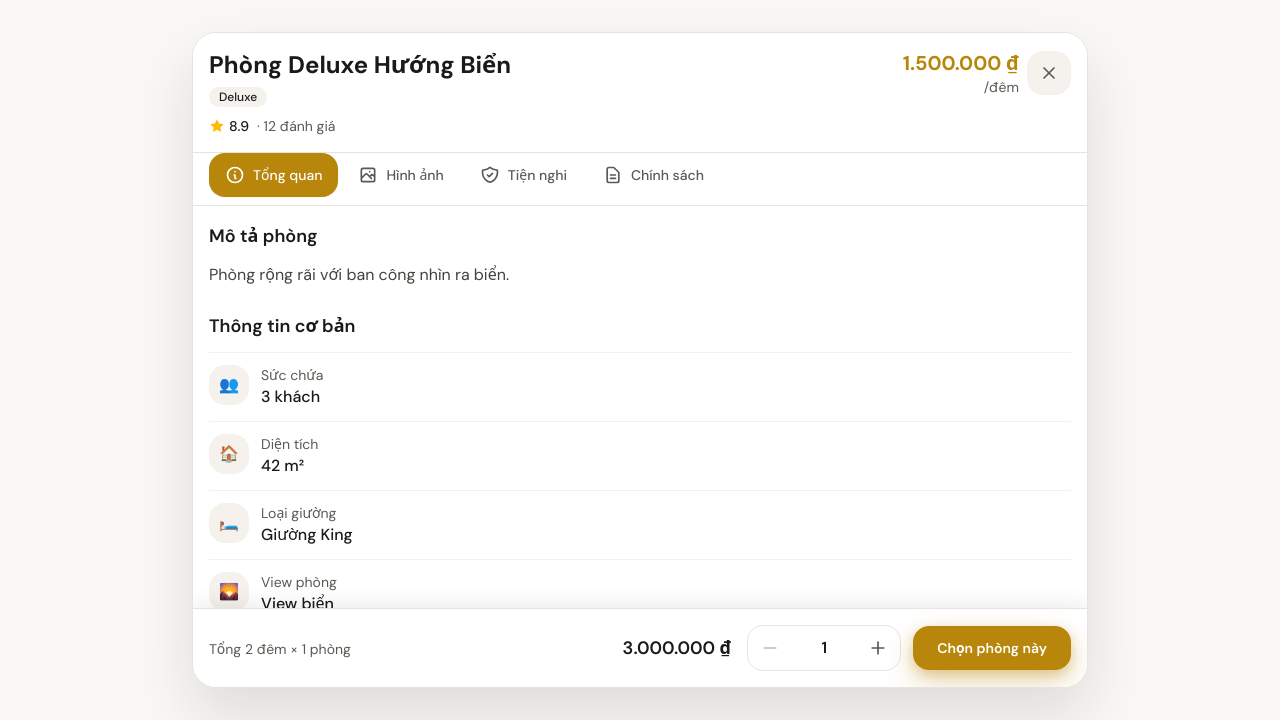
Test: RoomDetailModal — tabs › switches to the amenities tab with categorized groups
Click the tab "Tiện nghi" at (523, 175), box x1=464 y1=153 x2=583 y2=197
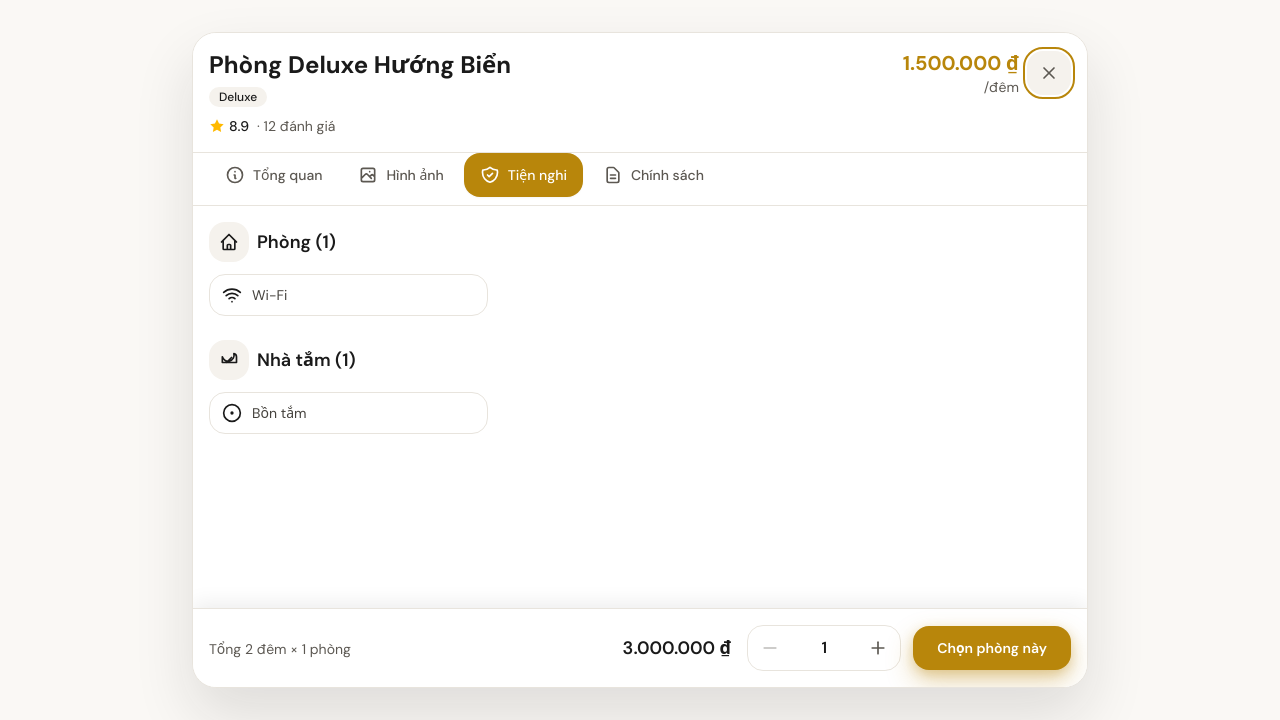
Expected: the text "Wi-Fi" is shown, x1=252 y1=285 x2=287 y2=305
Expected: the text "Bồn tắm" is shown, x1=252 y1=403 x2=306 y2=423
